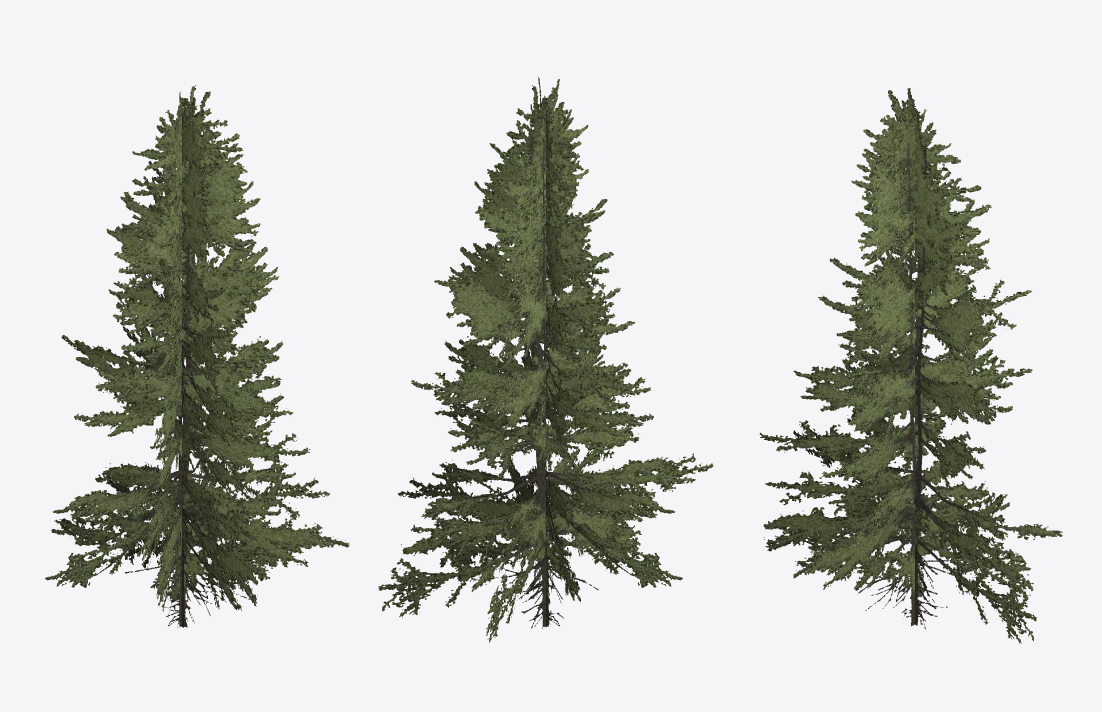
Rendered from firsap_b_bb.glb.
3 renders of one model, left to right at view 1: azimuth 30°, elevation 25°; view 2: azimuth 150°, elevation 25°; view 3: azimuth 270°, elevation 25°, orthographic.
Parts seen in each view (by area): view 1: firsap_b_billboard; view 2: firsap_b_billboard; view 3: firsap_b_billboard.
Boxes of the visible parts, x1,y1,x2,y2 form: firsap_b_billboard: [45, 85, 349, 627]; firsap_b_billboard: [378, 76, 713, 642]; firsap_b_billboard: [759, 88, 1062, 643].
Size of the model in its own units: 4.49 by 7.73 by 4.49.
Materials: 1 (1 with a texture image).
